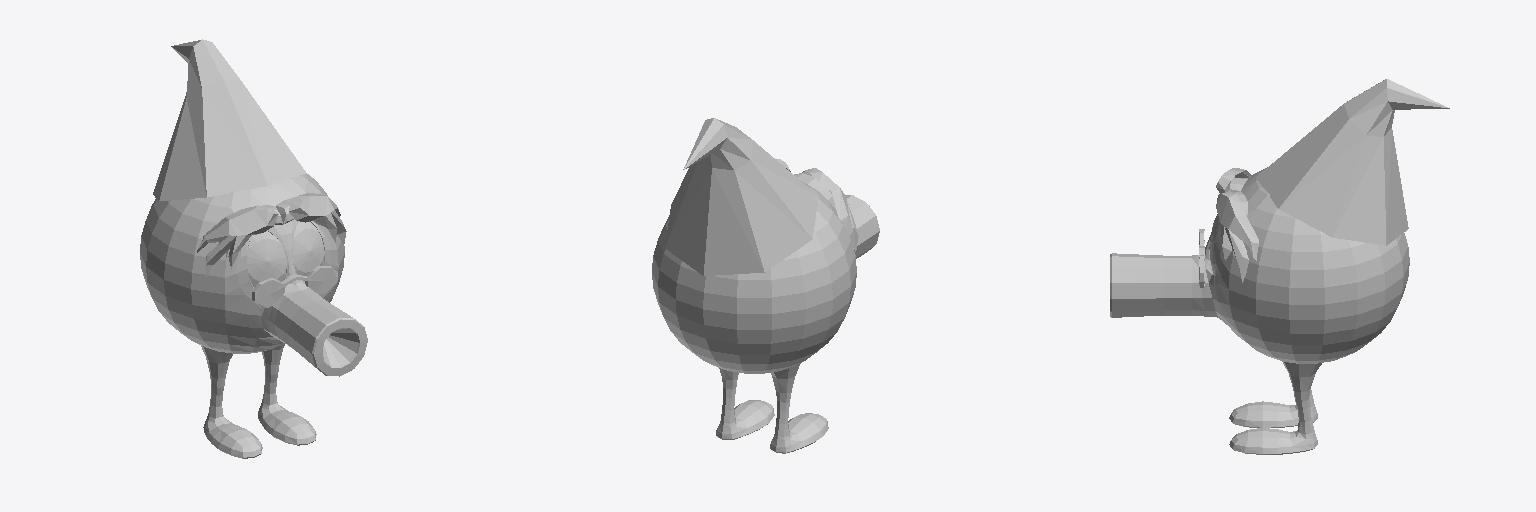
The model's file is qzard.obj.
The picture shows the model from 3 angles: view 1: azimuth 30°, elevation 25°; view 2: azimuth 150°, elevation 25°; view 3: azimuth 270°, elevation 25°; orthographic projection.
Parts seen in each view (by area): view 1: Qzard, Qzard_Material; view 2: Qzard, Qzard_Material; view 3: Qzard, Qzard_Material.
Boxes of the visible parts, <box> form: Qzard: <box>140,173,367,458</box>; Qzard_Material: <box>153,39,346,308</box>; Qzard: <box>652,173,879,453</box>; Qzard_Material: <box>665,118,858,275</box>; Qzard: <box>1110,167,1409,454</box>; Qzard_Material: <box>1199,79,1449,287</box>.
Size of the model in its own units: 34.85 by 67.42 by 58.65.